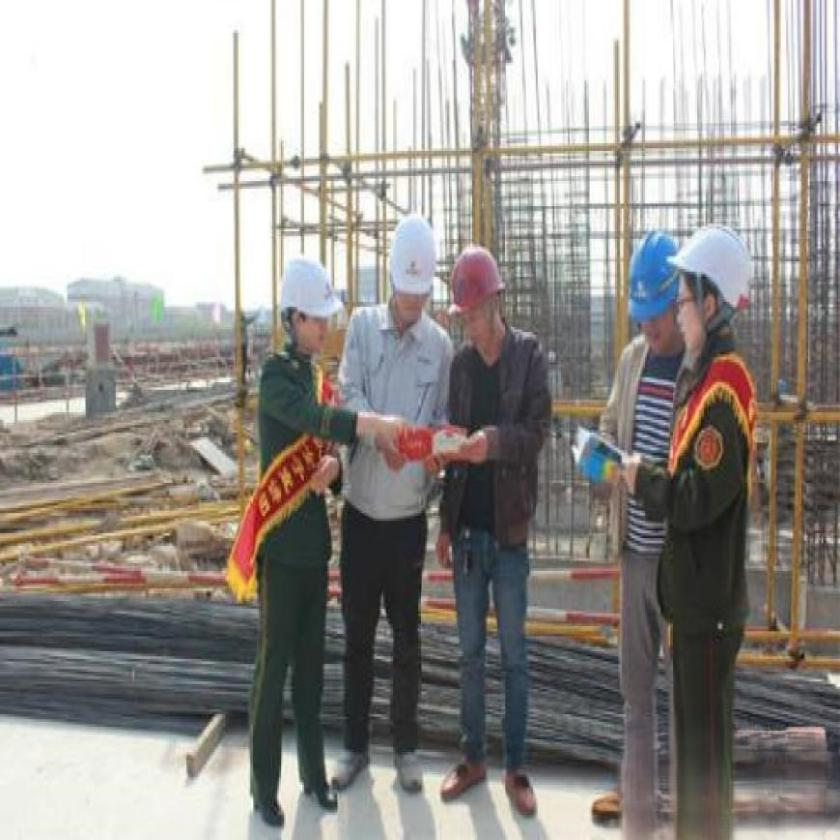Con_casco: (679, 224, 755, 352), (447, 241, 509, 352), (272, 259, 337, 357), (625, 230, 676, 350), (387, 214, 439, 324)
